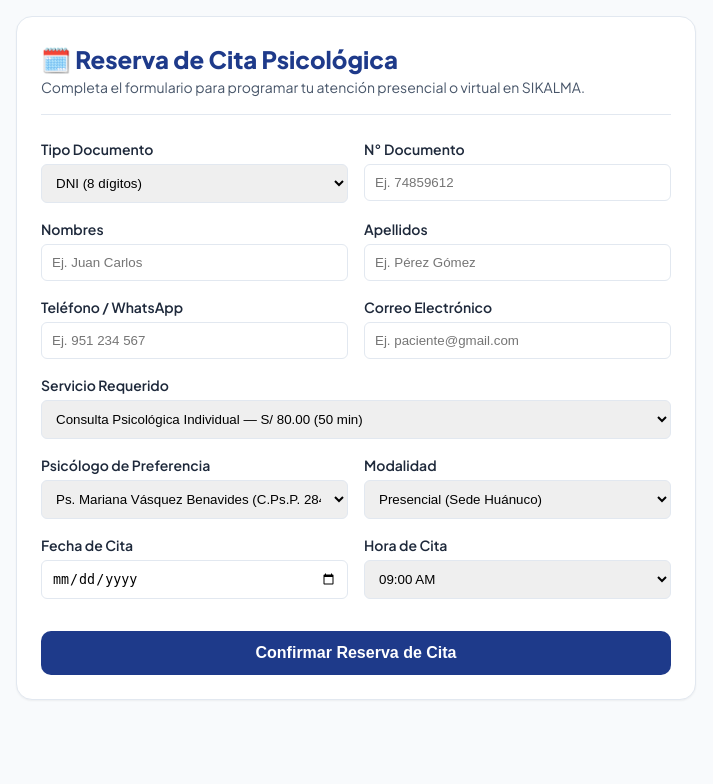
Test: AgendarCitaModal - Pruebas de Validación y Reserva › permite registrar la cita cuando todos los campos son válidos
Type "78965412" into the field with placeholder "Ej. 74859612" at point(518, 182), box [364, 164, 671, 201]
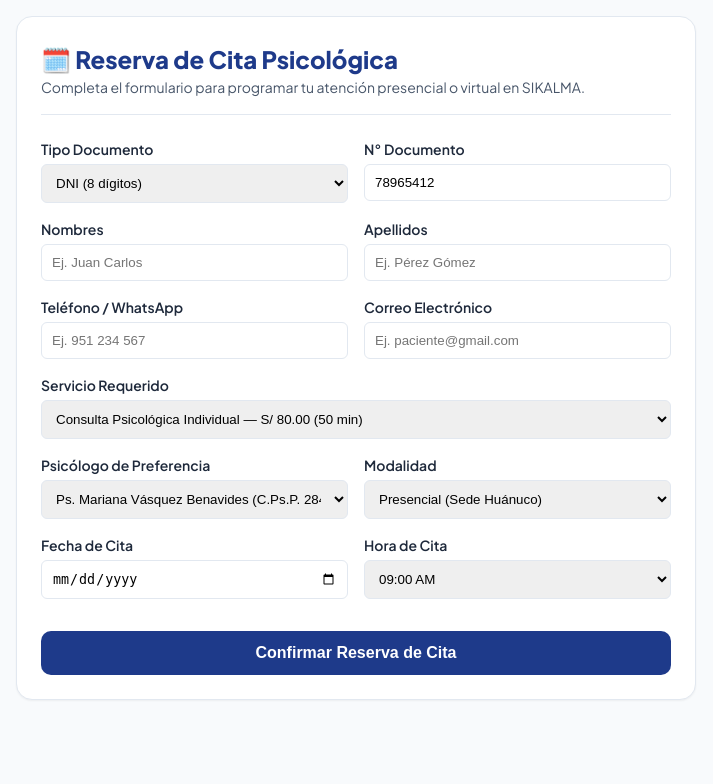
Type "Carlos" into the field with placeholder "Ej. Juan Carlos" at point(194, 262), box [41, 244, 348, 281]
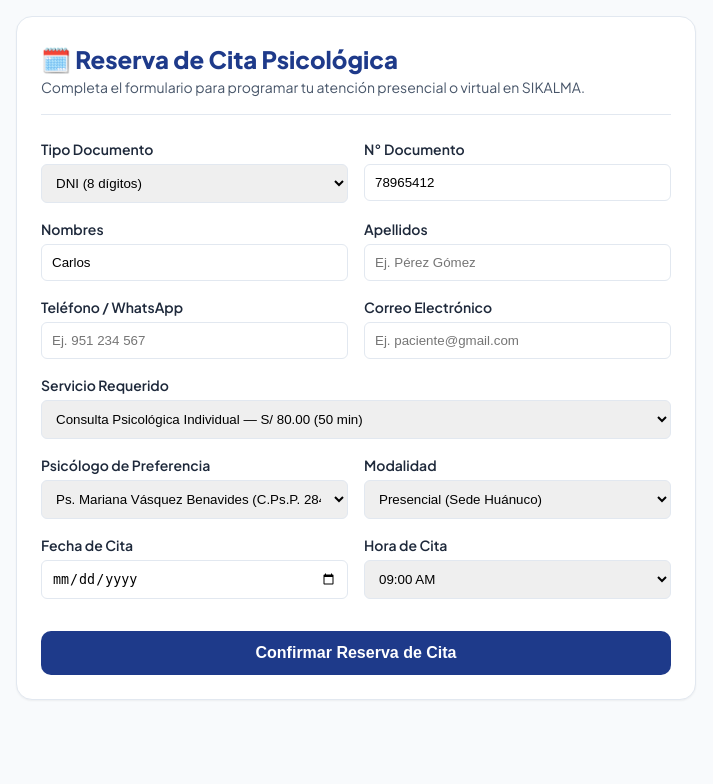
Type "Gómez" into the field with placeholder "Ej. Pérez Gómez" at point(518, 262), box [364, 244, 671, 281]
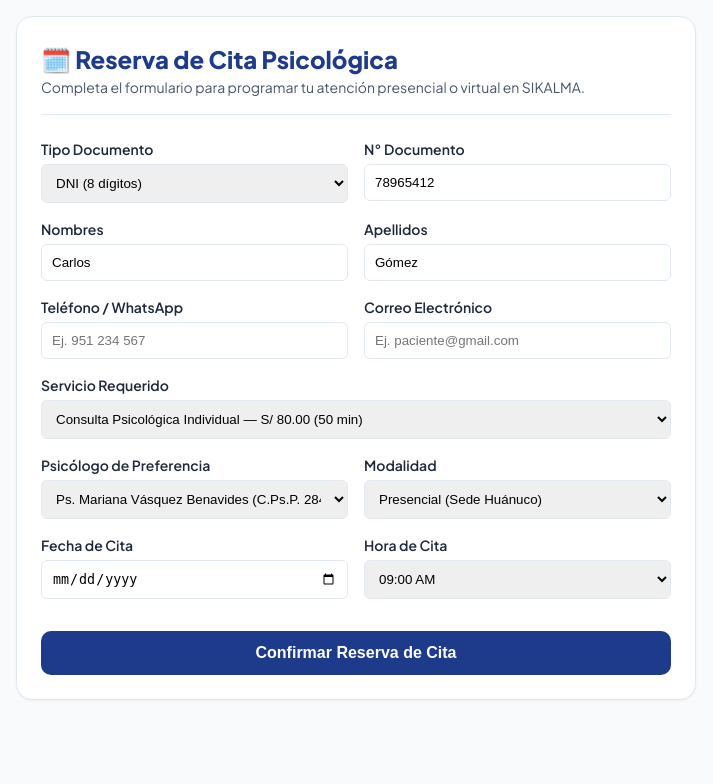
Type "987654321" into the field with placeholder "Ej. 951 234 567" at point(194, 340), box [41, 322, 348, 359]
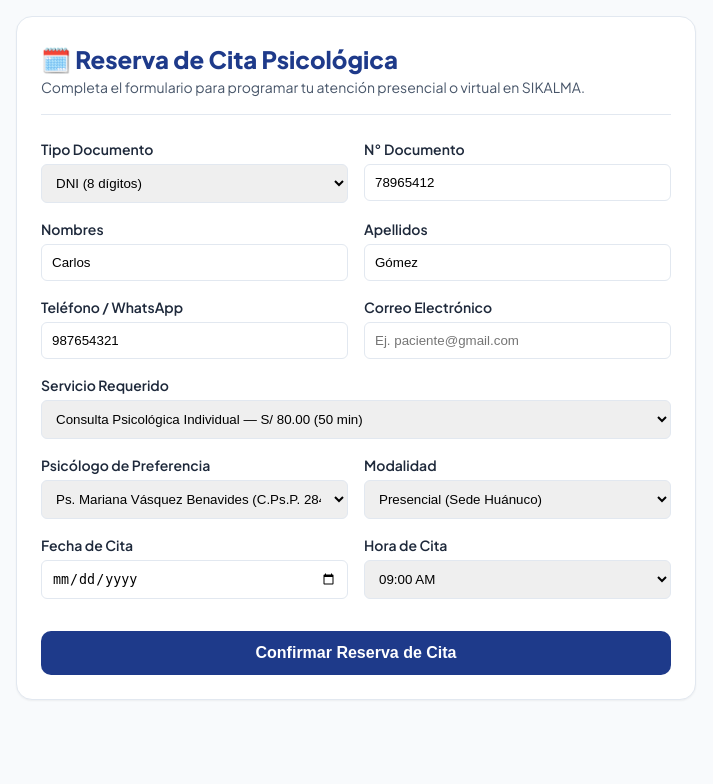
Type "2026-10-15" into the date field labelled "Fecha de Cita" at point(194, 580), box [41, 560, 348, 599]
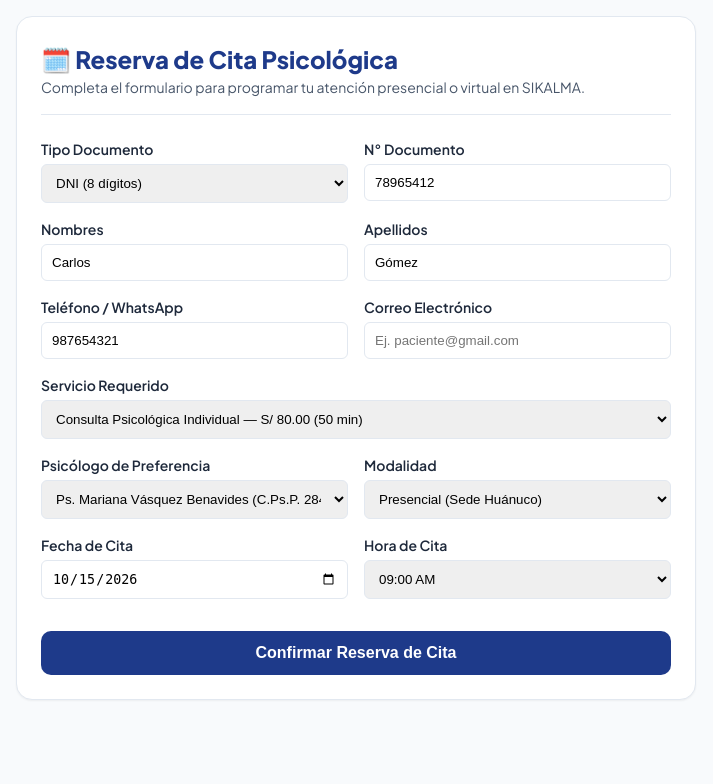
Click the button "Confirmar Reserva de Cita" at point(356, 653), box [41, 631, 671, 675]
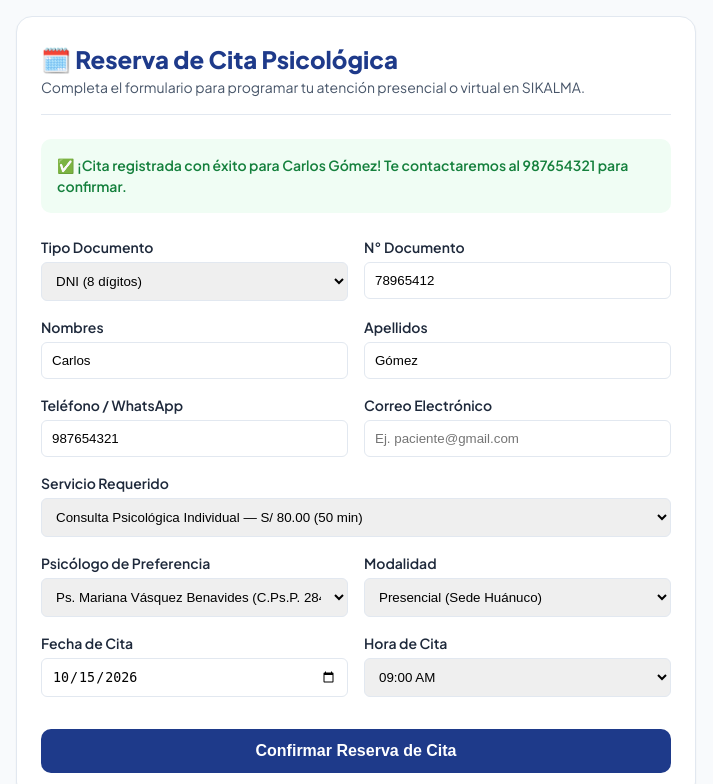
Expected: the text "¡Cita registrada con éxito para Carlos Gómez!" is shown, [57, 156, 628, 195]
